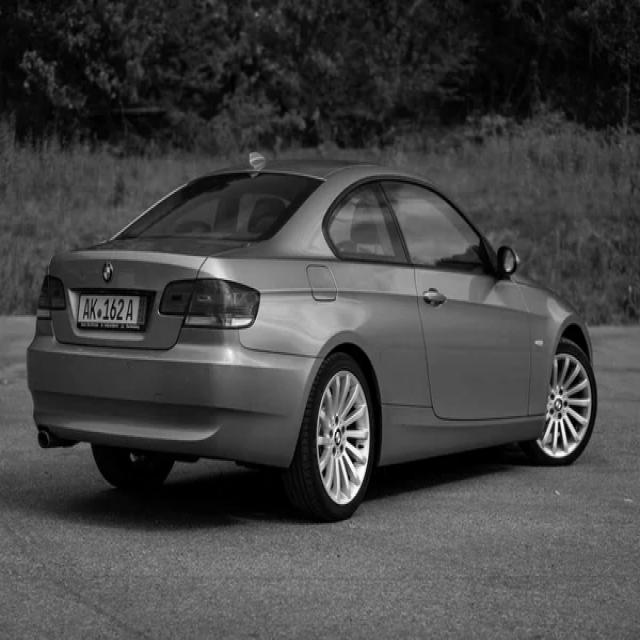Car: (27, 155, 600, 521)
